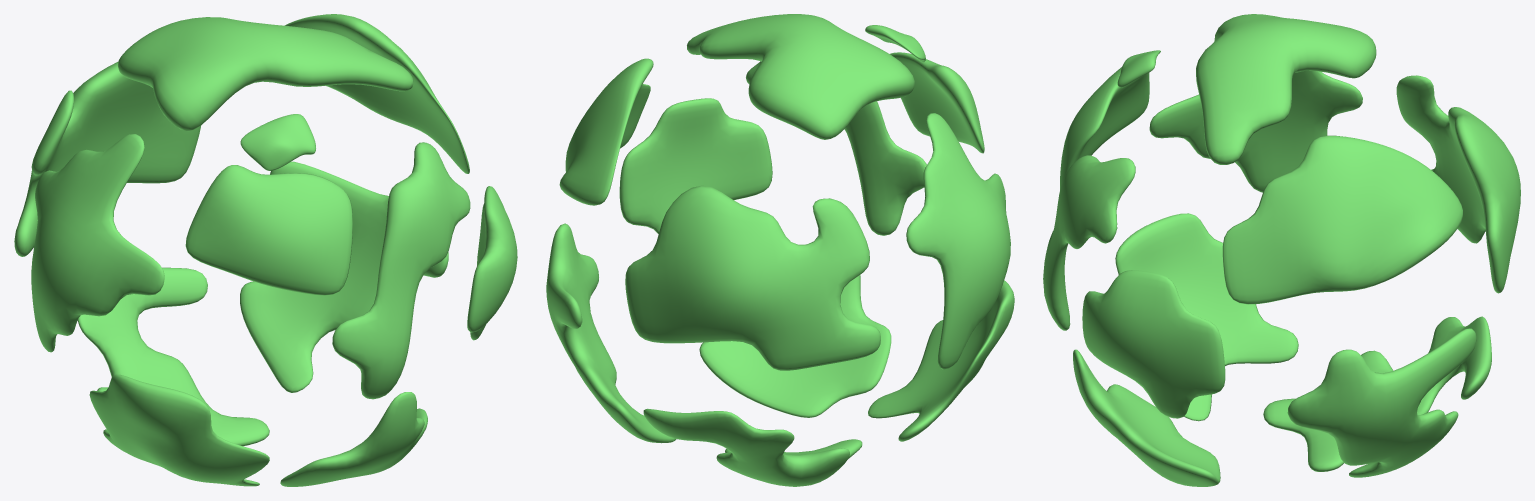
File: World_01a.fbx
3 views of the same model, side by side, from view 1: azimuth 30°, elevation 25°; view 2: azimuth 150°, elevation 25°; view 3: azimuth 270°, elevation 25° (orthographic). The views are drawn at different scales.
Parts seen in each view (by area): view 1: Cube.001; view 2: Cube.001; view 3: Cube.001.
Boxes of the visible parts, bbox=[...] form: Cube.001: bbox=[14, 14, 517, 486]; Cube.001: bbox=[546, 14, 1014, 486]; Cube.001: bbox=[1043, 14, 1520, 486].
Size of the model in its own units: 1.67 by 1.65 by 1.68.
